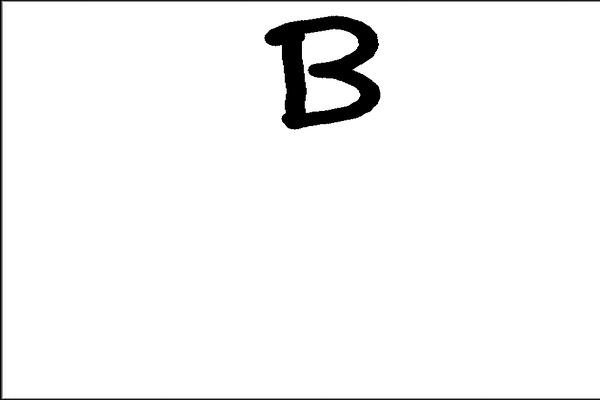B: (259, 10, 394, 137)
